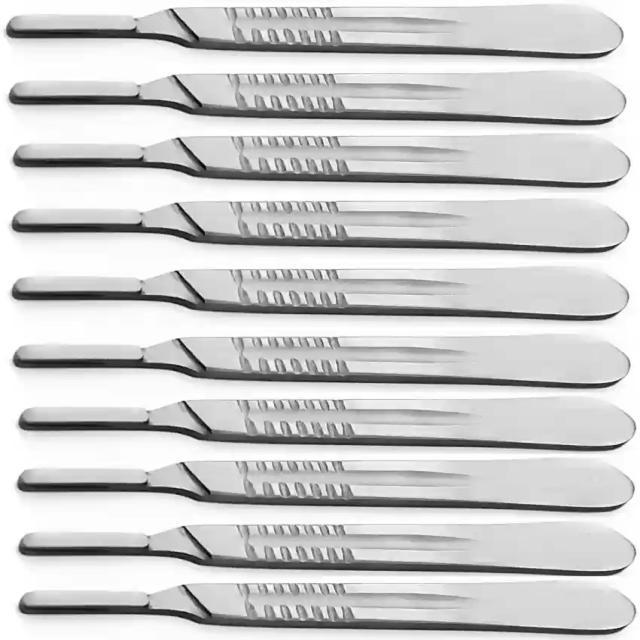Knife handle: (7, 262, 636, 334), (10, 194, 630, 259), (9, 130, 632, 194), (9, 70, 634, 129), (1, 0, 627, 58), (13, 580, 639, 638), (10, 522, 632, 580), (11, 460, 630, 518), (8, 400, 632, 454), (12, 336, 630, 390)
